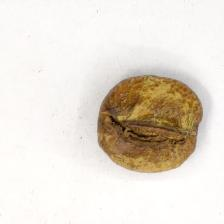NG: (100, 76, 199, 172)
